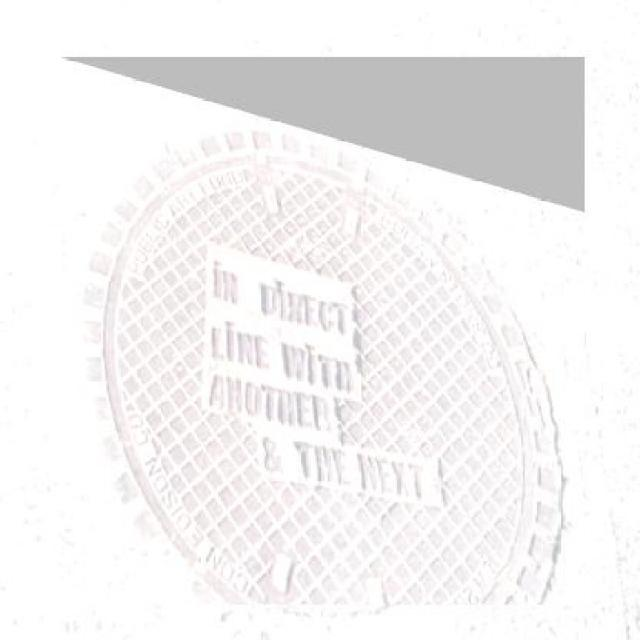Manhole: (58, 57, 586, 605)
